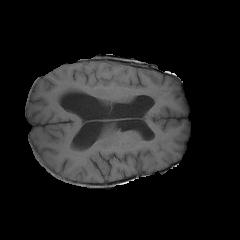glioma: (52, 79, 156, 108)
